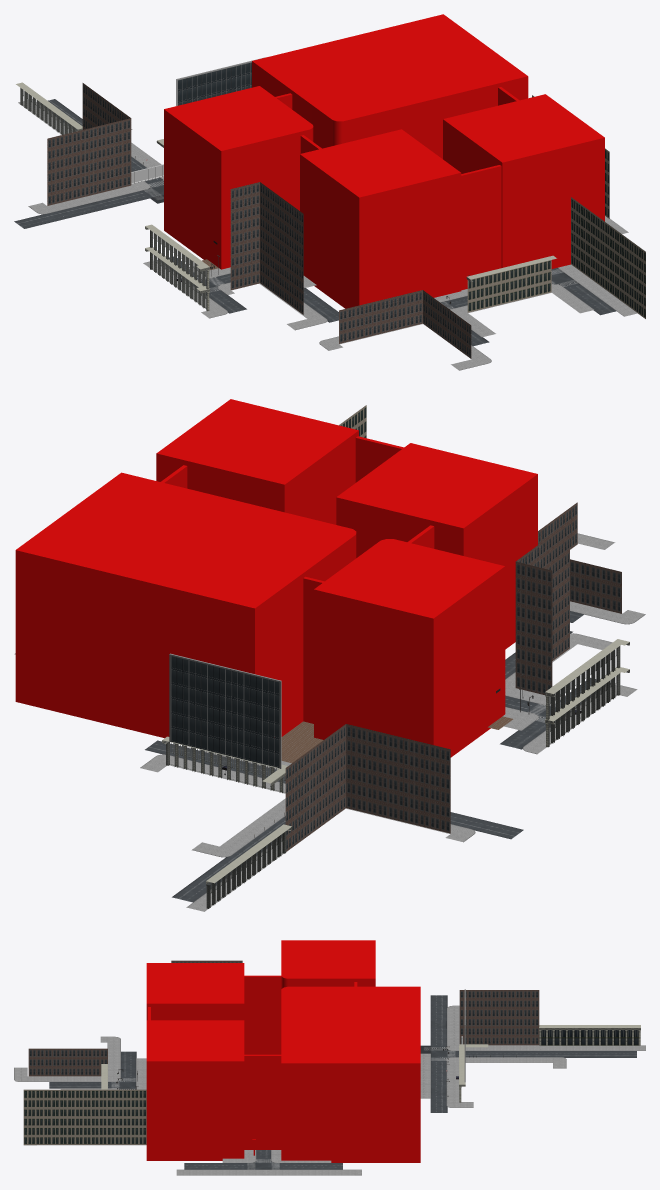
File: map01_1.fbx
The picture shows the model from 3 angles, top to bottom: view 1: azimuth 30°, elevation 25°; view 2: azimuth 150°, elevation 25°; view 3: azimuth 270°, elevation 25°; orthographic projection. The views are drawn at different scales.
Visible parts, largest first — view 1: map01_1_col, map01_1_mesh; view 2: map01_1_col, map01_1_mesh; view 3: map01_1_col, map01_1_mesh.
Part boxes in pixels (x1,y1,x2,y2): map01_1_col: [164, 14, 604, 308]; map01_1_mesh: [14, 57, 645, 370]; map01_1_col: [15, 399, 537, 757]; map01_1_mesh: [14, 405, 645, 911]; map01_1_col: [146, 940, 420, 1162]; map01_1_mesh: [14, 960, 645, 1175].
Size of the model in its own units: 1611 by 415 by 2387.
